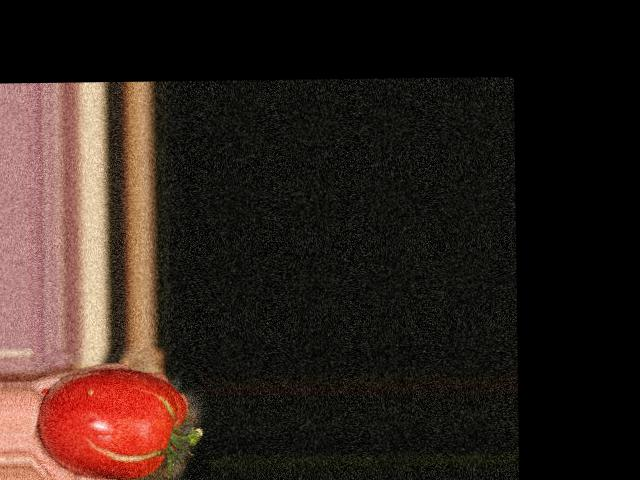tomato: (37, 366, 188, 478)
